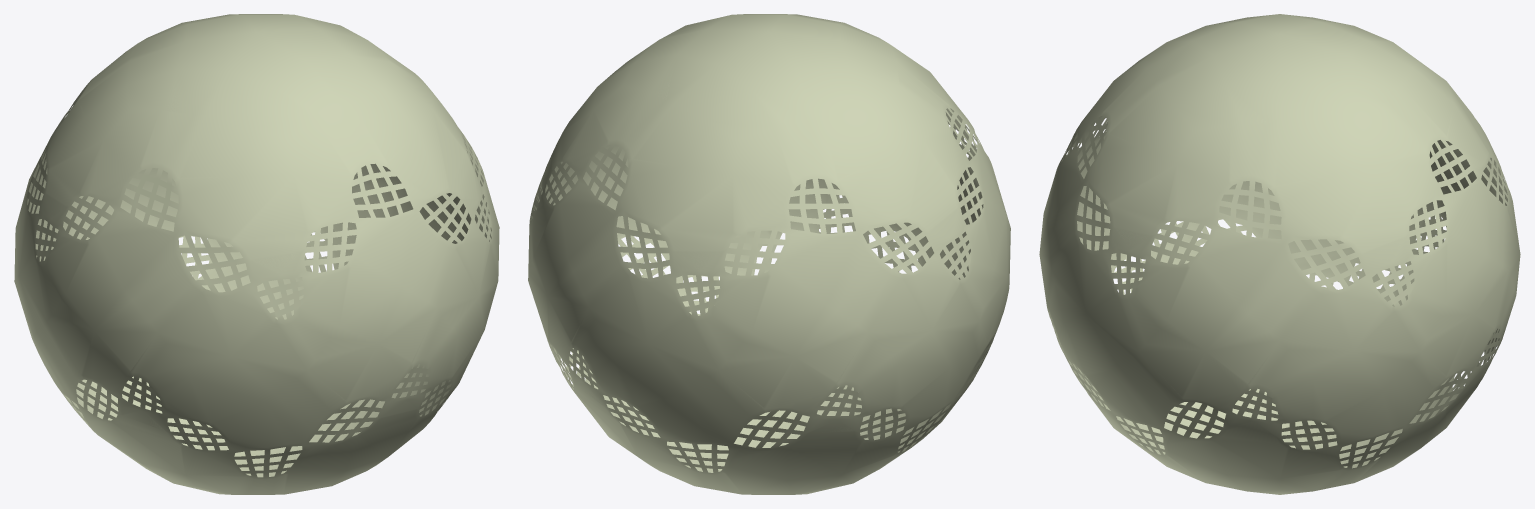
Rendered from target.obj.
3 views of the same model, side by side, from view 1: azimuth 30°, elevation 25°; view 2: azimuth 150°, elevation 25°; view 3: azimuth 270°, elevation 25° (orthographic).
Visible parts, largest first — view 1: icosahedron1; view 2: icosahedron1; view 3: icosahedron1.
Part boxes in pixels (x1,y1,x2,y2): icosahedron1: [14, 14, 499, 494]; icosahedron1: [528, 14, 1010, 494]; icosahedron1: [1039, 14, 1520, 494].
Bounding box in the file's own units: 2.88 × 2.91 × 2.88.
